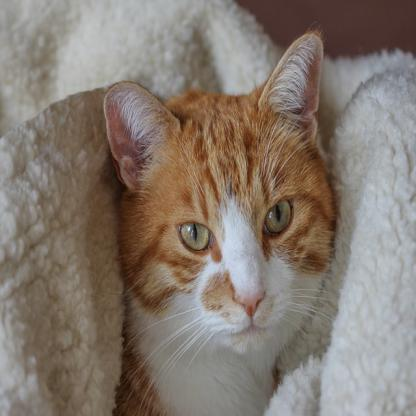cat: (102, 32, 339, 415)
